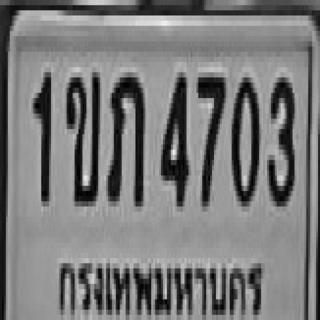A02: (65, 67, 98, 201)
A32: (106, 67, 143, 201)
N00: (230, 72, 257, 201)
N01: (31, 67, 49, 201)
N03: (265, 72, 292, 201)
N04: (159, 67, 186, 201)
N07: (195, 72, 225, 201)
